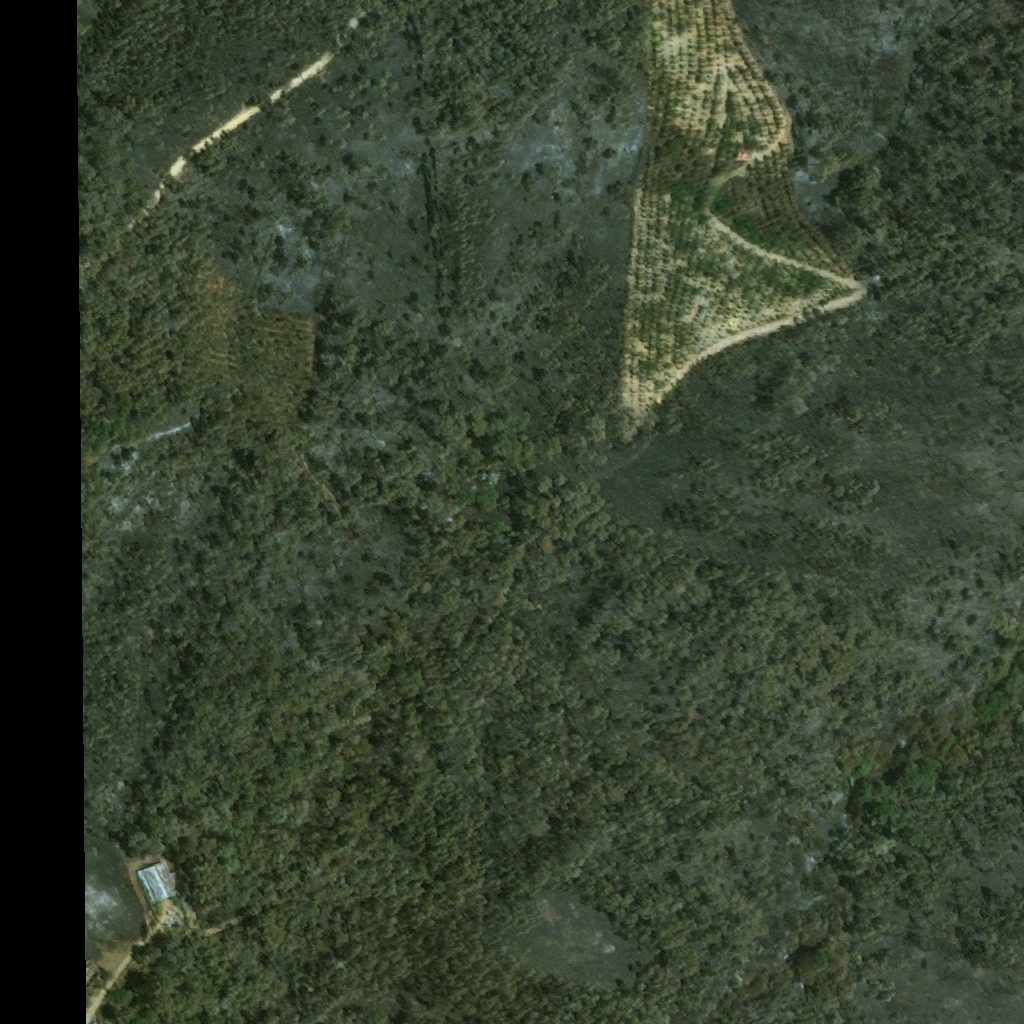0 no-damage: (138, 859, 180, 904), (733, 152, 748, 163)
3 destroyed: (93, 961, 105, 990)
